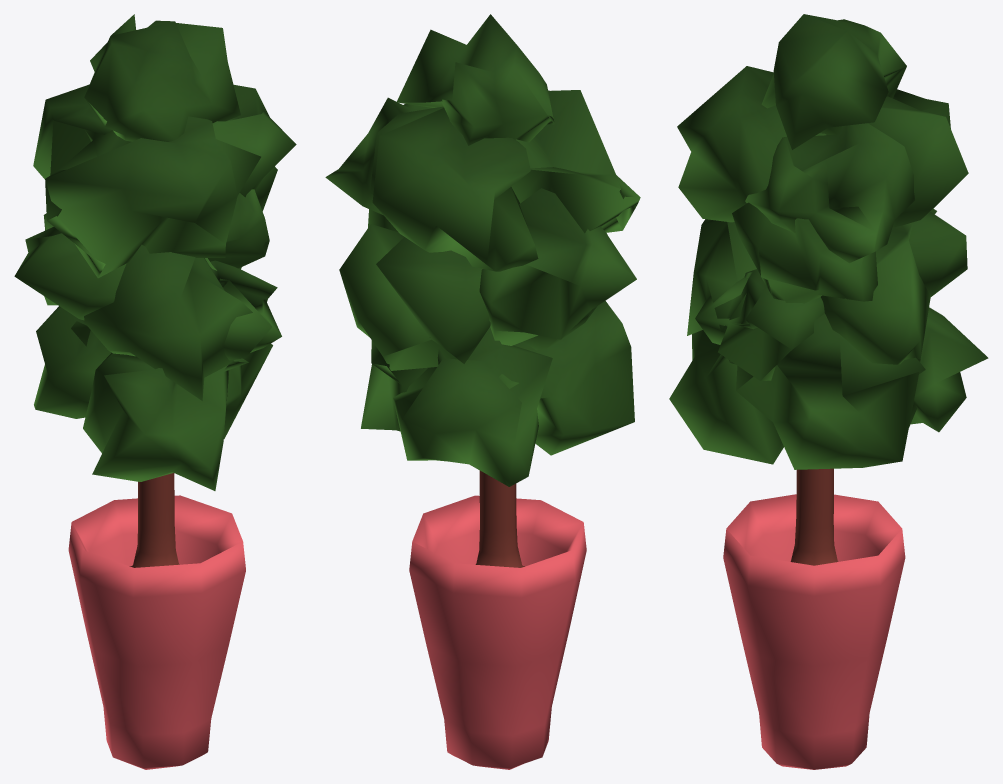
Rendered from GAMEJAMHERO - Prop(Plant).fbx.
3 renders of one model, left to right at view 1: azimuth 30°, elevation 25°; view 2: azimuth 150°, elevation 25°; view 3: azimuth 270°, elevation 25°, orthographic.
Visible parts, largest first — view 1: Cube.003; view 2: Cube.003; view 3: Cube.003.
Part boxes in pixels (x1,y1,x2,y2): Cube.003: [14, 14, 296, 769]; Cube.003: [325, 14, 640, 769]; Cube.003: [669, 14, 988, 769].
Size of the model in its own units: 103 by 254 by 98.65.
Materials: 1 (1 with a texture image).
